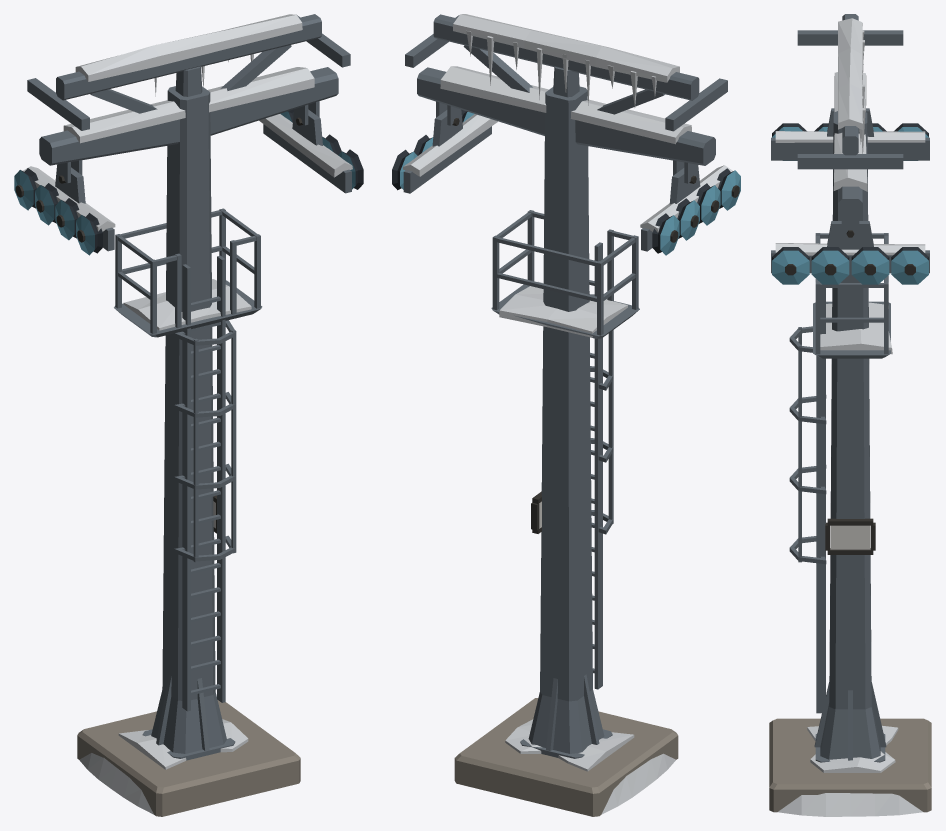
File: lift-pylon-v01.glb
The picture shows the model from 3 angles, left to right: view 1: azimuth 30°, elevation 25°; view 2: azimuth 150°, elevation 25°; view 3: azimuth 270°, elevation 25°; orthographic projection. The views are drawn at different scales.
Parts seen in each view (by area): view 1: pylon, train-r-beam, sheave-mesh (×4), train-l-beam; view 2: pylon, train-r-beam, sheave-mesh (×4), train-l-beam; view 3: pylon, sheave-mesh (×4), train-l-beam, train-r-beam.
Boxes of the visible parts, x1,y1,x2,y2 form: pylon: (27,14,350,816); train-r-beam: (259,109,352,193); sheave-mesh (×4): (14,168,102,255); train-l-beam: (23,164,115,251); pylon: (405,14,727,816); train-r-beam: (403,109,497,193); sheave-mesh (×4): (652,168,740,255); train-l-beam: (640,164,732,251); pylon: (769,14,931,816); sheave-mesh (×4): (772,247,928,284); train-l-beam: (771,108,929,160); train-r-beam: (771,221,929,273).
Bounding box in the file's own units: 3.96 × 9.68 × 2.
